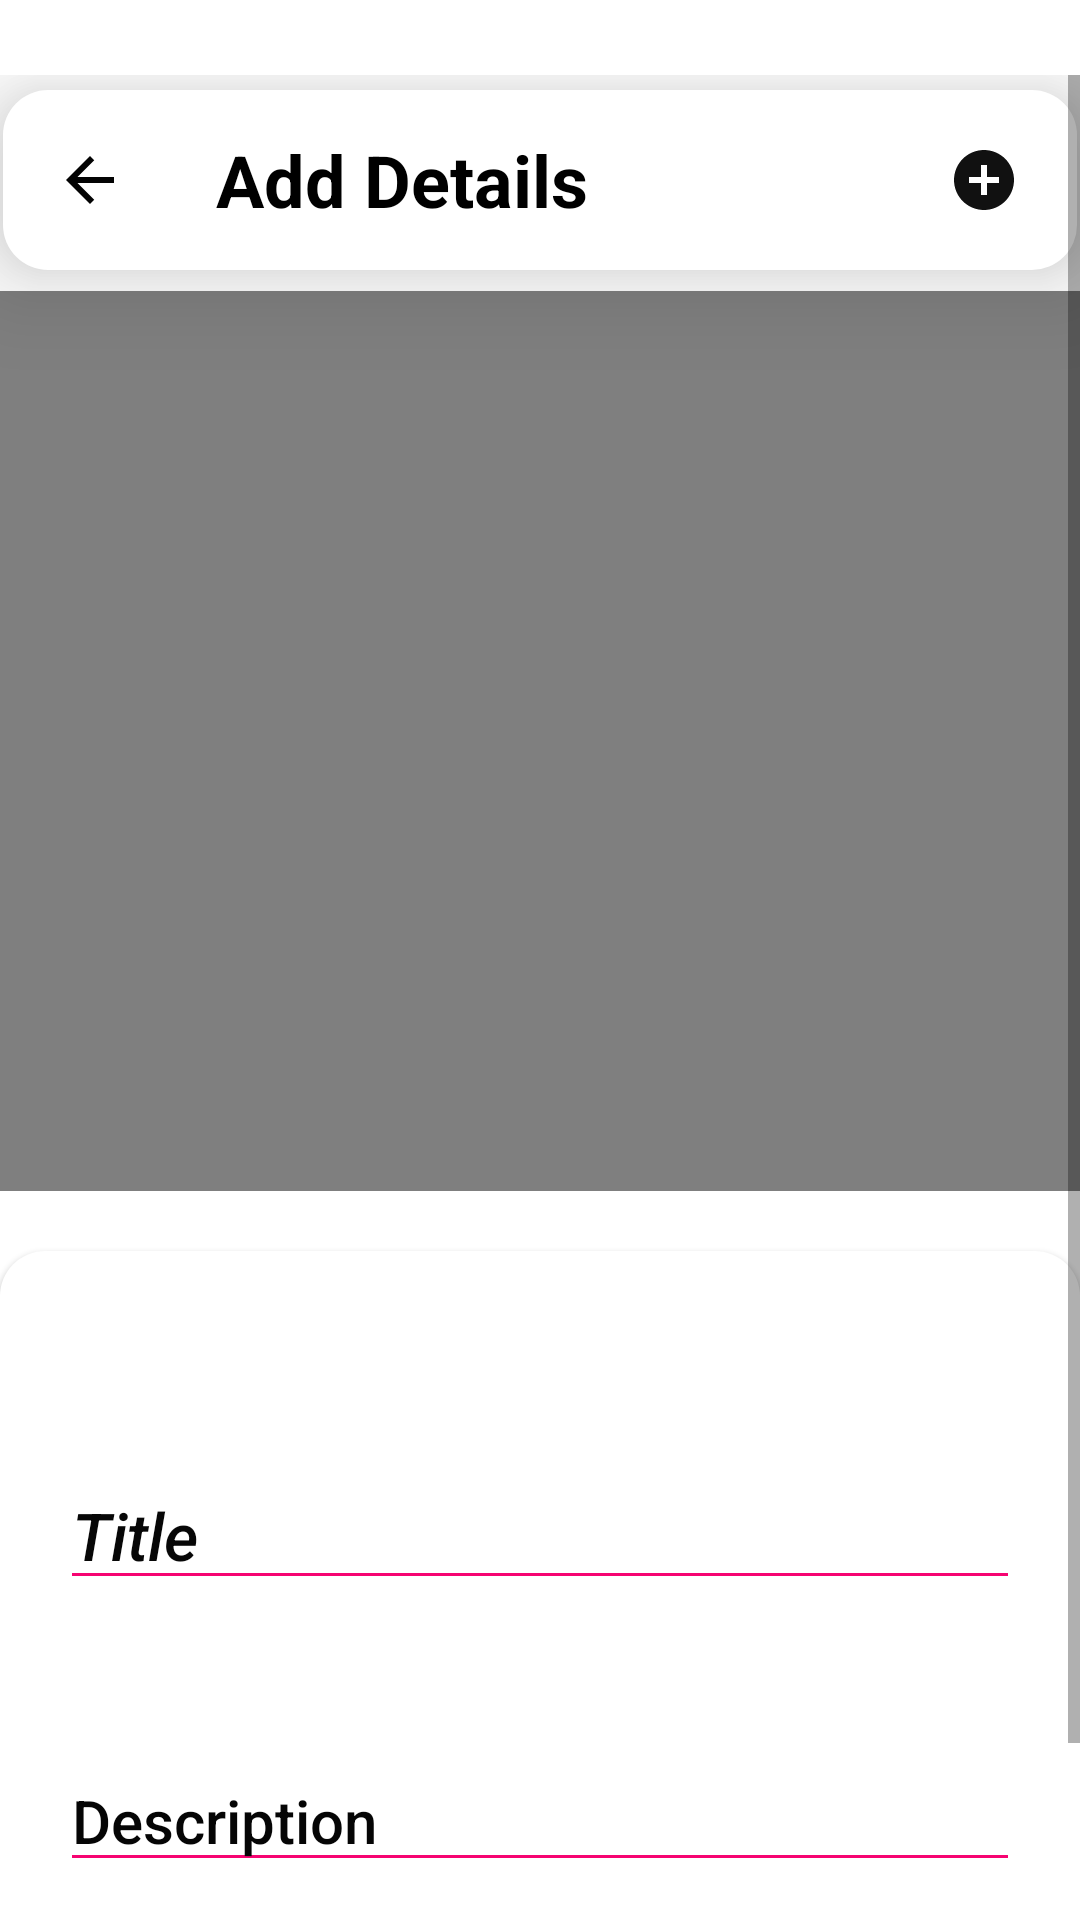

Point at icon controls on the screen. Image size 1080px×1920px, points as (x,y).
floating add: (984,180)
upload content back arrow: (90,180)
